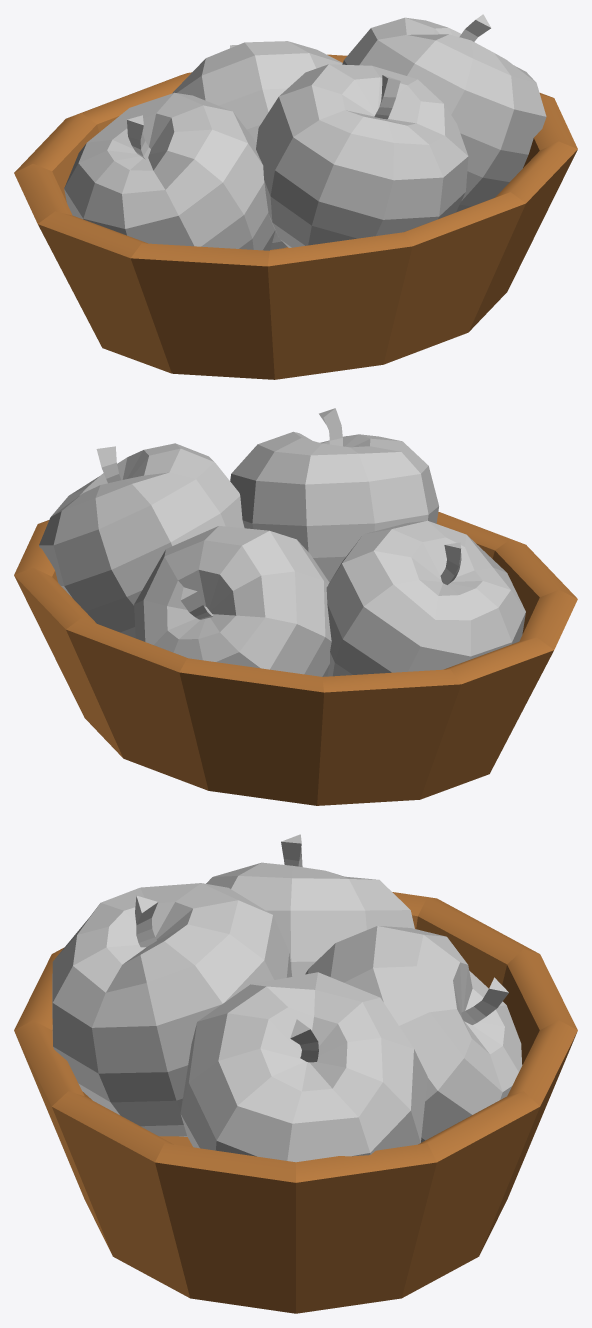
Rendered from item_appleBasket_a.fbx.
The picture shows the model from 3 angles, top to bottom: view 1: azimuth 30°, elevation 25°; view 2: azimuth 150°, elevation 25°; view 3: azimuth 270°, elevation 25°; orthographic projection. The views are drawn at different scales.
Parts seen in each view (by area): view 1: fruit_basket_before; view 2: fruit_basket_before; view 3: fruit_basket_before.
Boxes of the visible parts, bbox=[...] form: fruit_basket_before: bbox=[14, 14, 577, 379]; fruit_basket_before: bbox=[14, 408, 577, 805]; fruit_basket_before: bbox=[14, 834, 577, 1313].
Bounding box in the file's own units: 17.06 × 8.34 × 13.34.
